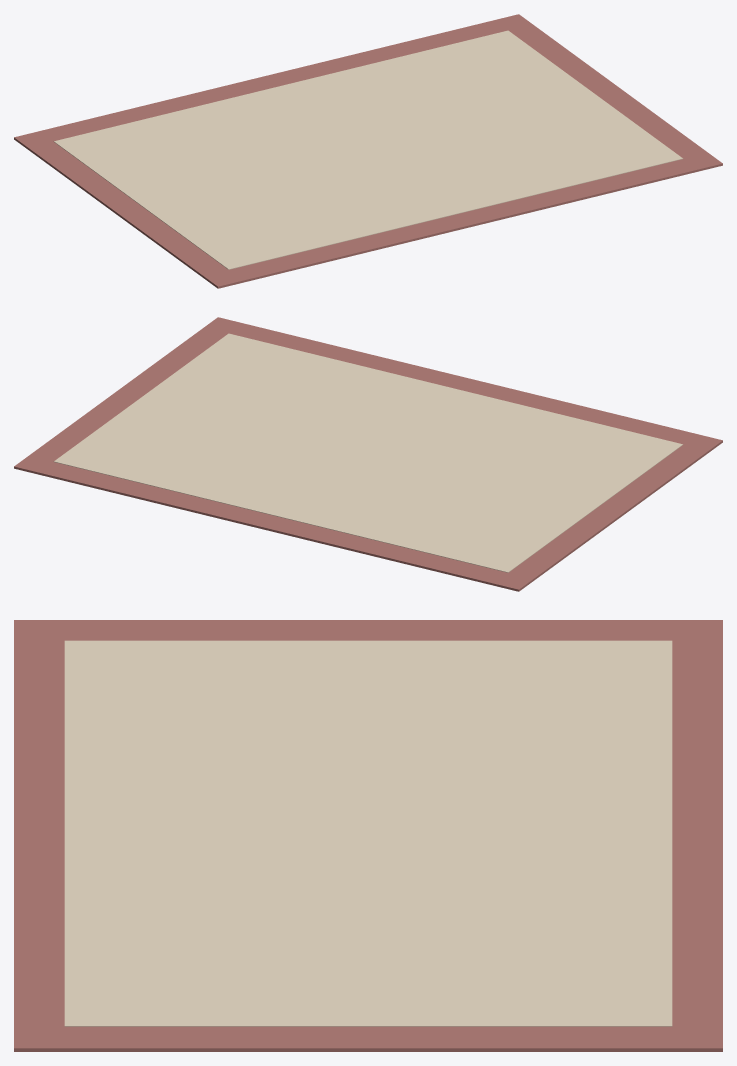
The model's file is rug.glb.
3 renders of one model, top to bottom at view 1: azimuth 30°, elevation 25°; view 2: azimuth 150°, elevation 25°; view 3: azimuth 270°, elevation 25°, orthographic. The views are drawn at different scales.
Visible parts, largest first — view 1: Field, Border; view 2: Field, Border; view 3: Field, Border.
Part boxes in pixels (box(x1,y1,x2,y2)): Field: box(53, 30, 683, 269); Border: box(14, 14, 722, 288); Field: box(53, 333, 683, 572); Border: box(14, 317, 722, 591); Field: box(64, 640, 672, 1026); Border: box(14, 620, 722, 1051).
Bounding box in the file's own units: 2 × 0.01 × 1.4.
